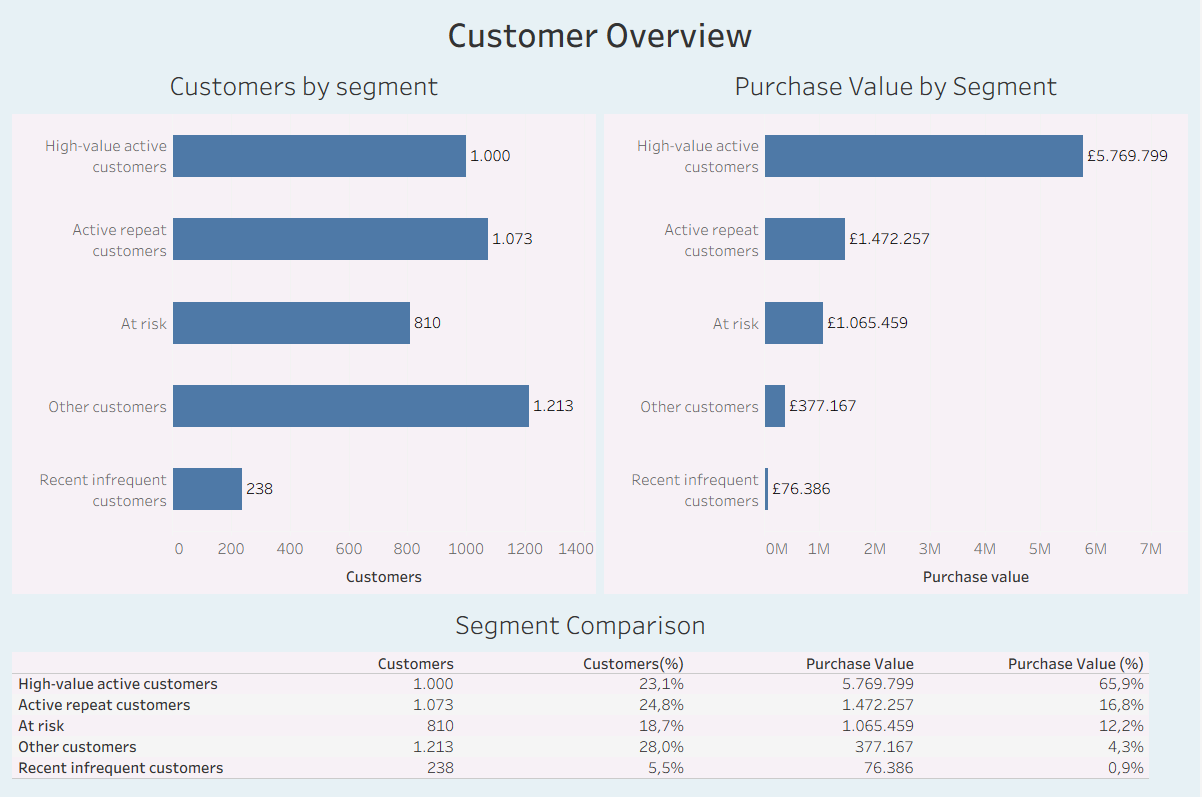

The dashboard page shown, as its layout file describes it:
{"tool":"tableau","page":{"name":"Customer Overview","canvas":[1200,800],"ordinal":0},"visuals":[{"type":"title","box":[8,8,1184,53]},{"type":"worksheet","title":"Customers by segment","mark":"Automatic","rows":["customer_segment"],"cols":["customer_id"],"box":[8,61,592,539]},{"type":"worksheet","title":"Purchase Value by Segment","mark":"Bar","rows":["customer_segment"],"cols":["monetary"],"box":[600,61,592,539]},{"type":"worksheet","title":"Segment Comparison","mark":"Automatic","rows":["customer_segment"],"box":[8,600,1184,192]}]}

Visuals, with their boxes in screenshot pixels (x1, y1, x2, y2), scaled from the page's 1200x800 canvas onto the 1202x797 screenshot:
title: 8:8:1194:61
"Customers by segment" worksheet: 8:61:601:598
"Purchase Value by Segment" worksheet (Bar marks): 601:61:1194:598
"Segment Comparison" worksheet: 8:598:1194:789
